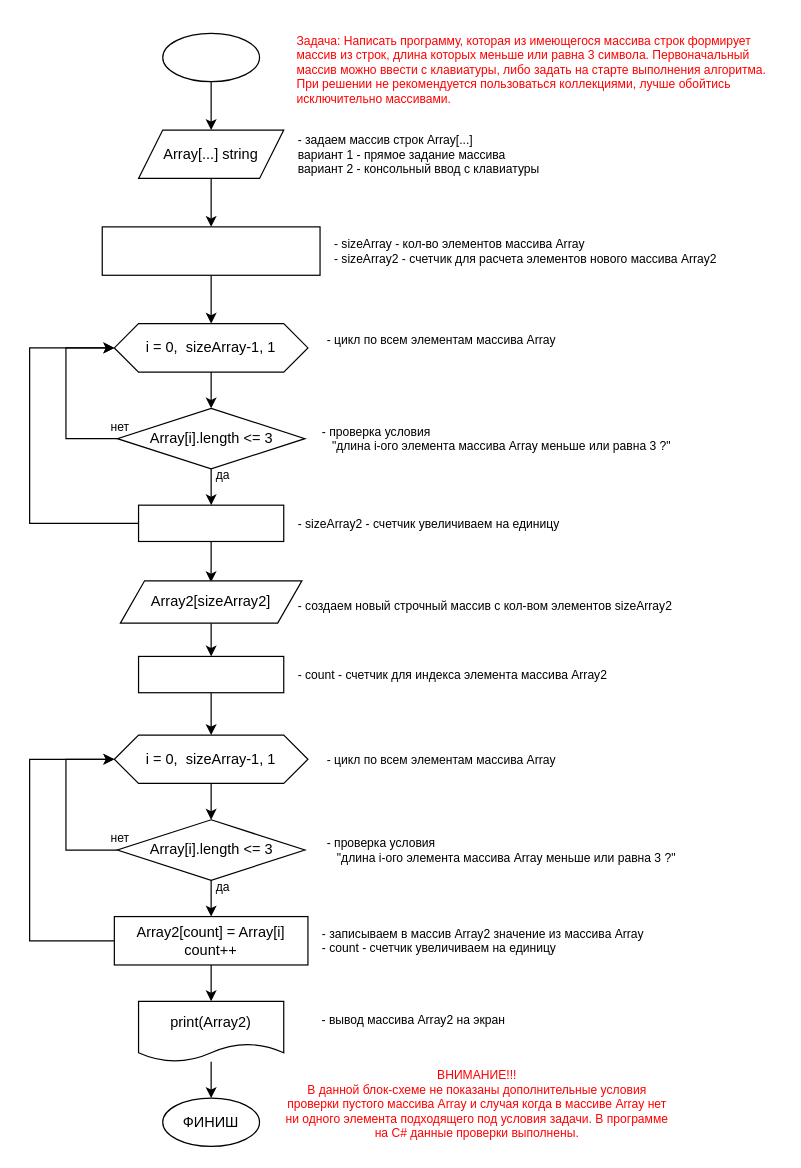
The diagram is 801 pixels wide and 1168 high, and some of its shapes have lost their labels. Each missing label, with the centre of its shape:
"count = 0" belongs at (210,674).
"sizeArray = Array[...].Length sizeArray2 = 0" belongs at (210,250).
"sizeArray2++" belongs at (210,522).
"СТАРТ" belongs at (211,57).
